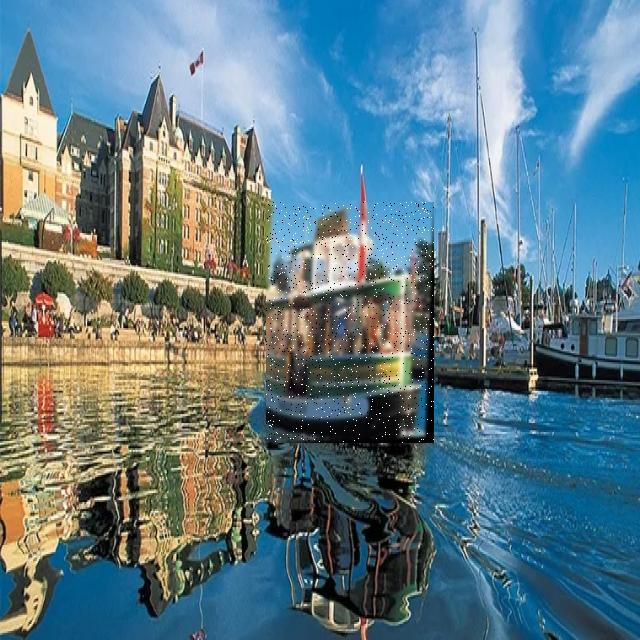boat: (266, 202, 434, 443)
